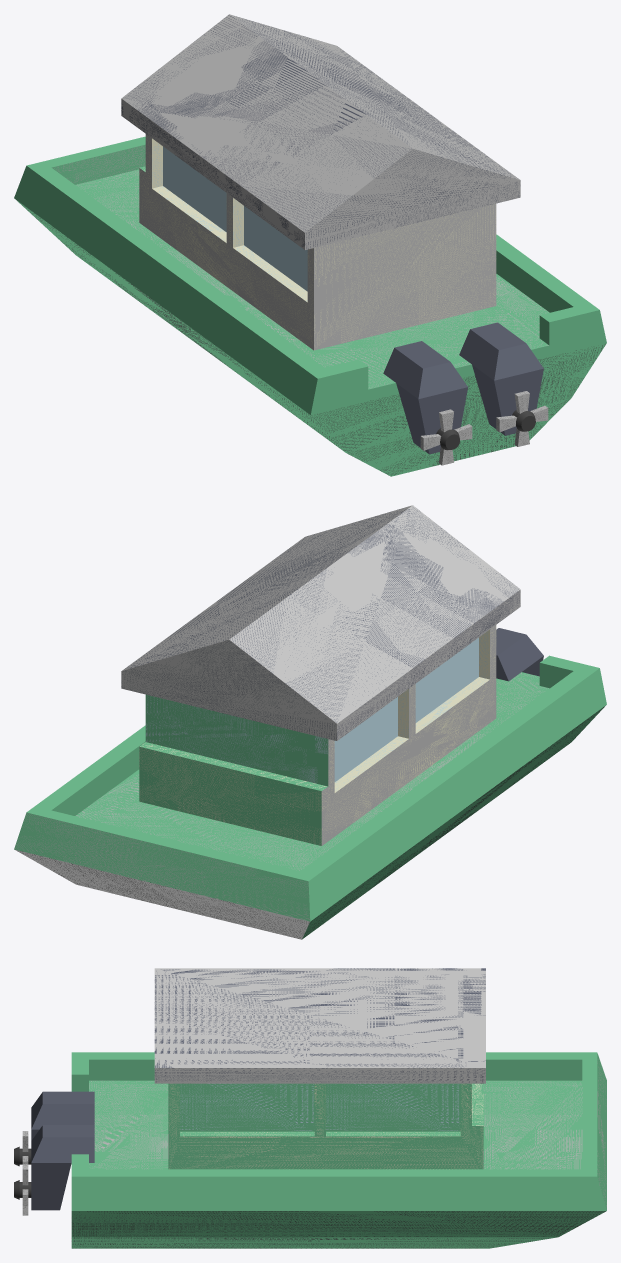
The model's file is boat.dae.
The picture shows the model from 3 angles, top to bottom: view 1: azimuth 30°, elevation 25°; view 2: azimuth 150°, elevation 25°; view 3: azimuth 270°, elevation 25°; orthographic projection. The views are drawn at different scales.
Visible parts, largest first — view 1: boat, Group (×4); view 2: boat, Group; view 3: boat, Group (×2).
Boxes of the visible parts, bbox=[...] form: boat: bbox=[14, 14, 606, 476]; Group (×4): bbox=[383, 322, 548, 465]; boat: bbox=[14, 505, 606, 939]; Group: bbox=[496, 628, 543, 681]; boat: bbox=[71, 968, 606, 1248]; Group (×2): bbox=[14, 1091, 94, 1210].
Size of the model in its own units: 2.68 by 2.4 by 5.14.
